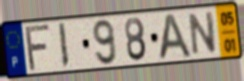8: (123, 16, 148, 64)
9: (91, 18, 117, 67)
A: (157, 11, 194, 62)
F: (24, 22, 53, 73)
I: (57, 21, 71, 71)
N: (187, 10, 218, 58)
